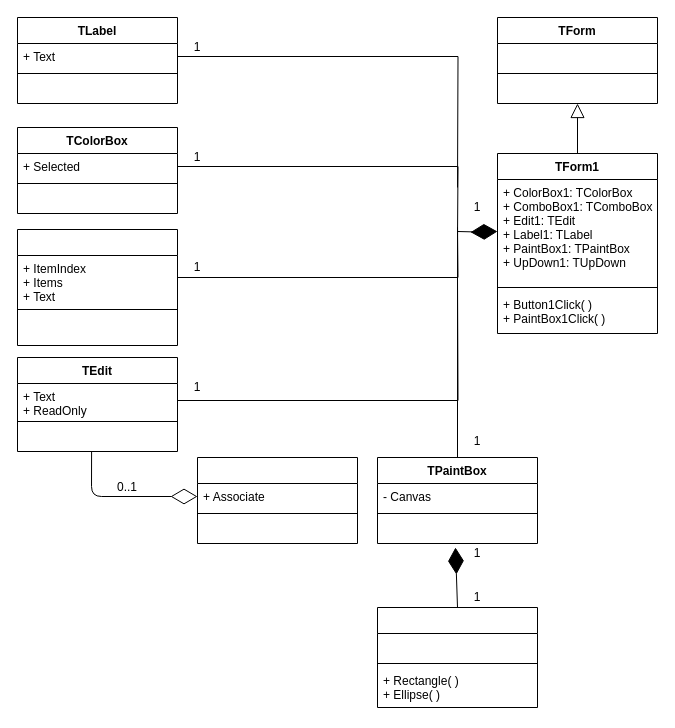
Image size: 675x728. Some labels were removed from this diagram. Here are the shapes that lost their labels. From the top down, the box of each, then its label:
(16, 228, 178, 346): TComboBox
(196, 456, 358, 544): TUpDown
(376, 606, 538, 708): TCanvas
